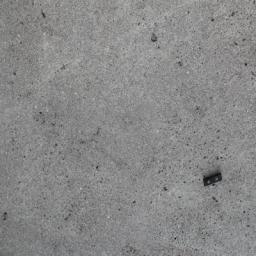FOD: (203, 168, 227, 192)
